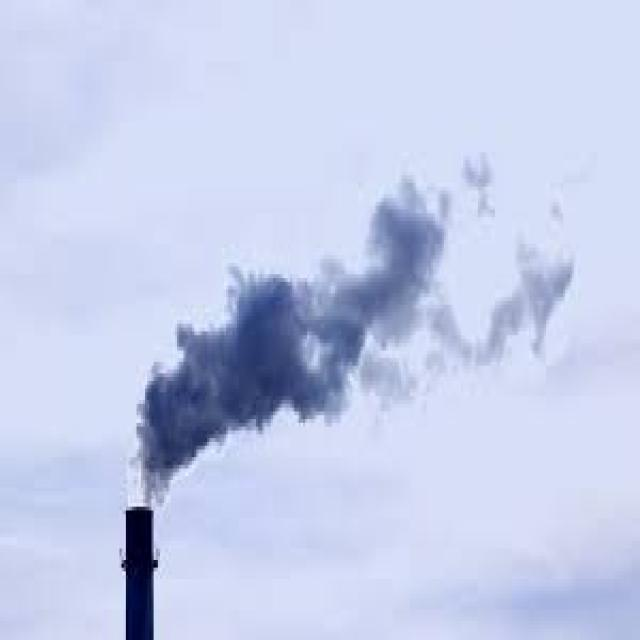smoke: (88, 167, 600, 446)
